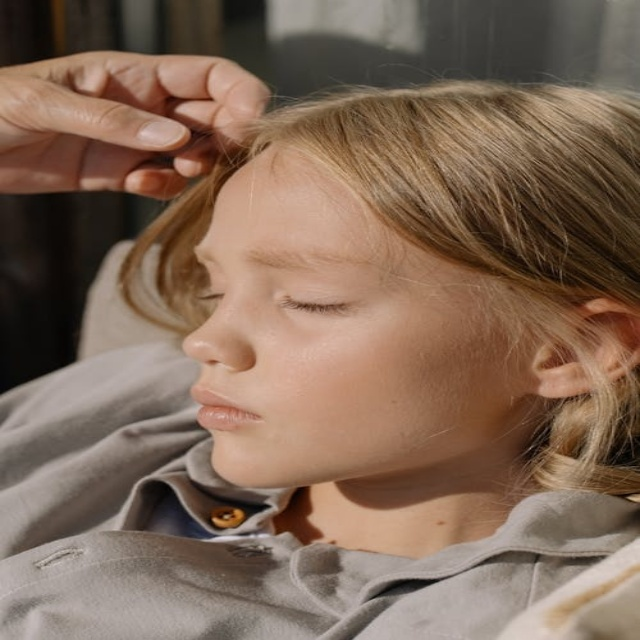Sin_gafas: (191, 240, 419, 333)
Sin_guantes: (1, 48, 272, 202)
Sin_mascara: (183, 378, 356, 488)
